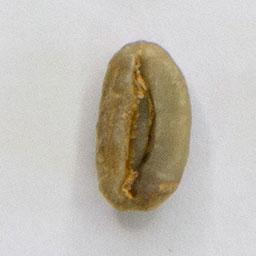longberry: (93, 37, 195, 214)
